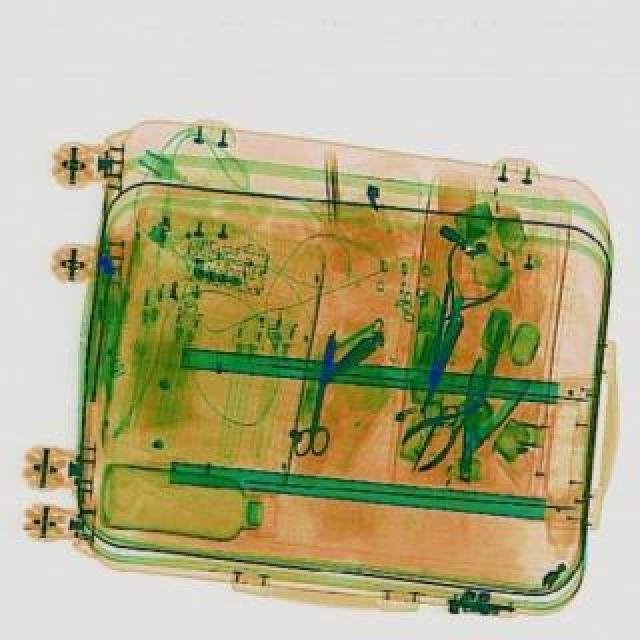pliers: (290, 332, 350, 458)
wrench: (390, 382, 498, 476)
